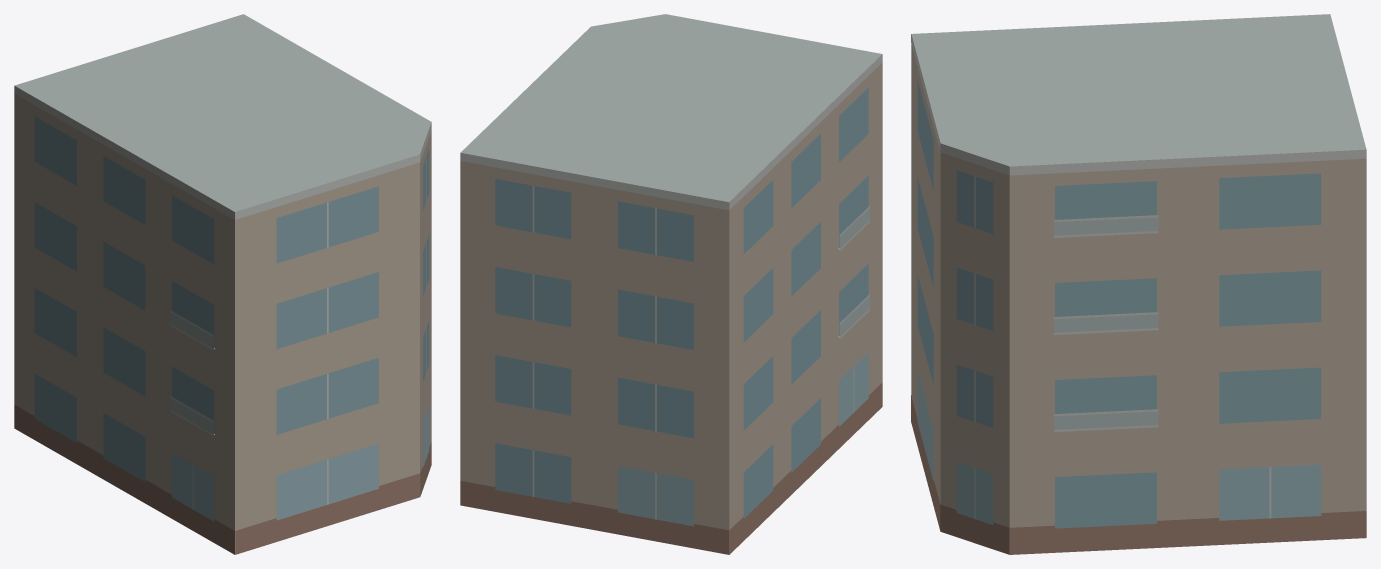
Rendered from survey-upis-32616266.glb.
3 views of the same model, side by side, from view 1: azimuth 30°, elevation 25°; view 2: azimuth 150°, elevation 25°; view 3: azimuth 270°, elevation 25° (orthographic). The views are drawn at different scales.
Visible parts, largest first — view 1: survey-upis-32616266.tmp; view 2: survey-upis-32616266.tmp; view 3: survey-upis-32616266.tmp.
Part boxes in pixels (x1,y1,x2,y2): survey-upis-32616266.tmp: [14, 14, 431, 554]; survey-upis-32616266.tmp: [460, 14, 882, 554]; survey-upis-32616266.tmp: [911, 14, 1366, 554].
Size of the model in its own units: 8.94 by 10.6 by 11.27.
